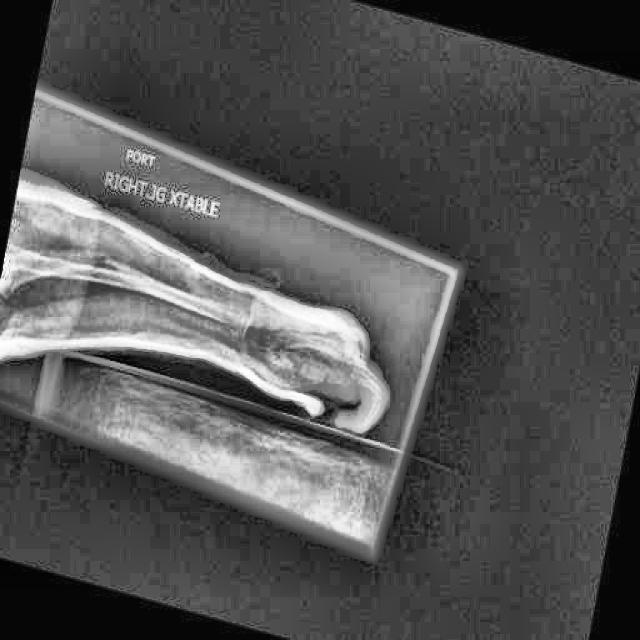forearm fracture: (73, 245, 138, 285)
